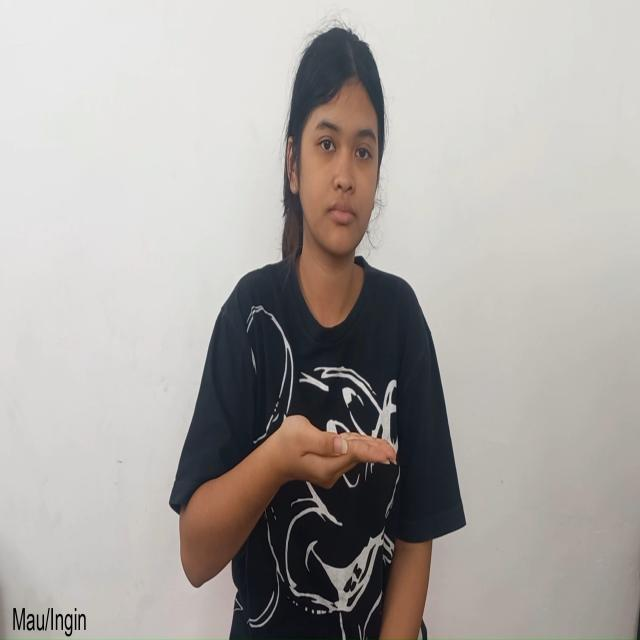Mau-Ingin -BISINDO-: (178, 412, 399, 591)
